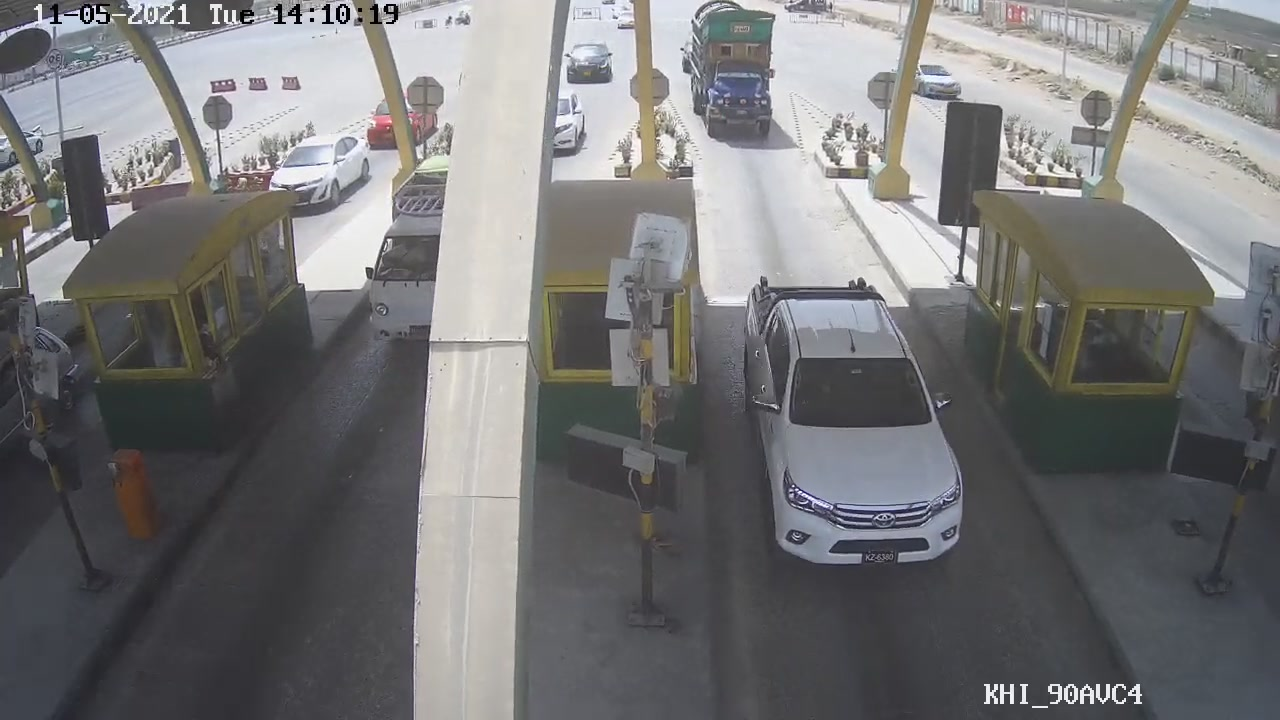F1: (729, 268, 960, 576)
